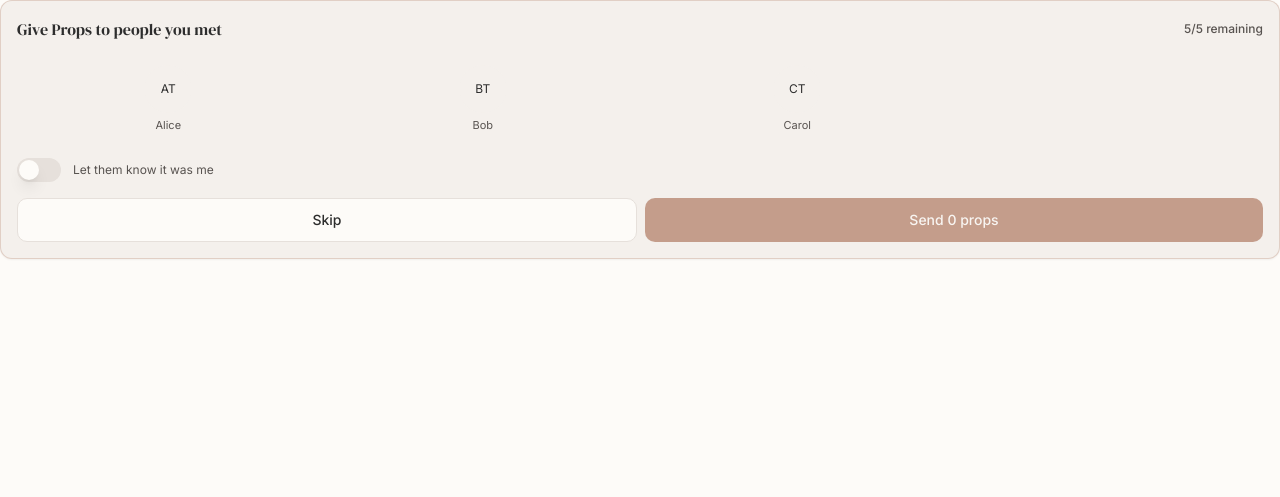
Test: GivePropsFlow › enforces max 5 props limit
Expected: the text "Alice" is shown, x1=155 y1=118 x2=181 y2=132
Step 1. Click the button "AT Alice" → (168, 99), box x1=17 y1=57 x2=320 y2=142
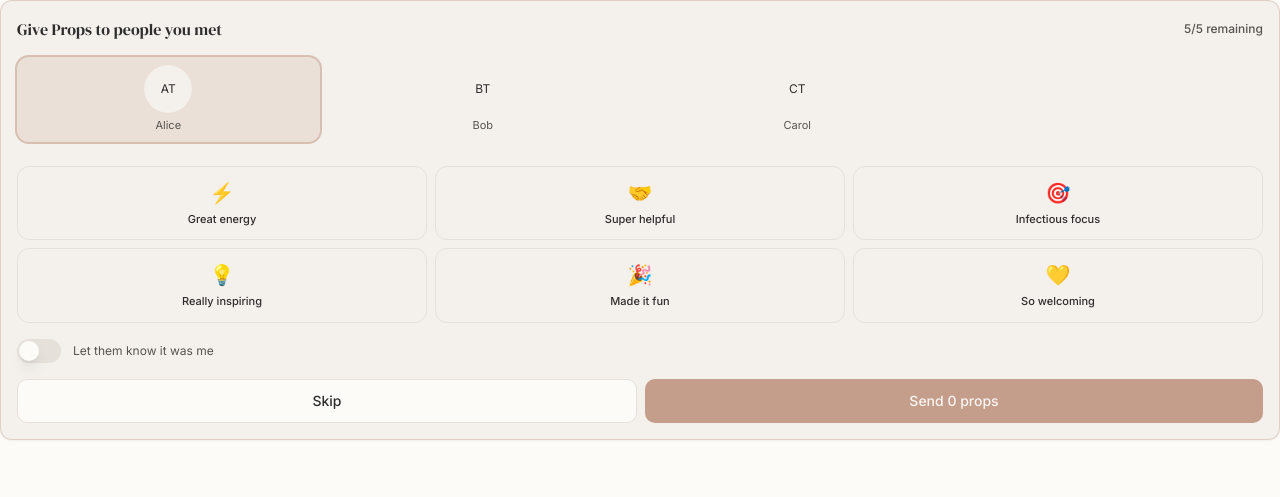
Expected: the text "Great energy" is shown, x1=188 y1=210 x2=256 y2=227
Step 2. Click the button "⚡ Great energy" → (222, 203), box x1=17 y1=166 x2=427 y2=240
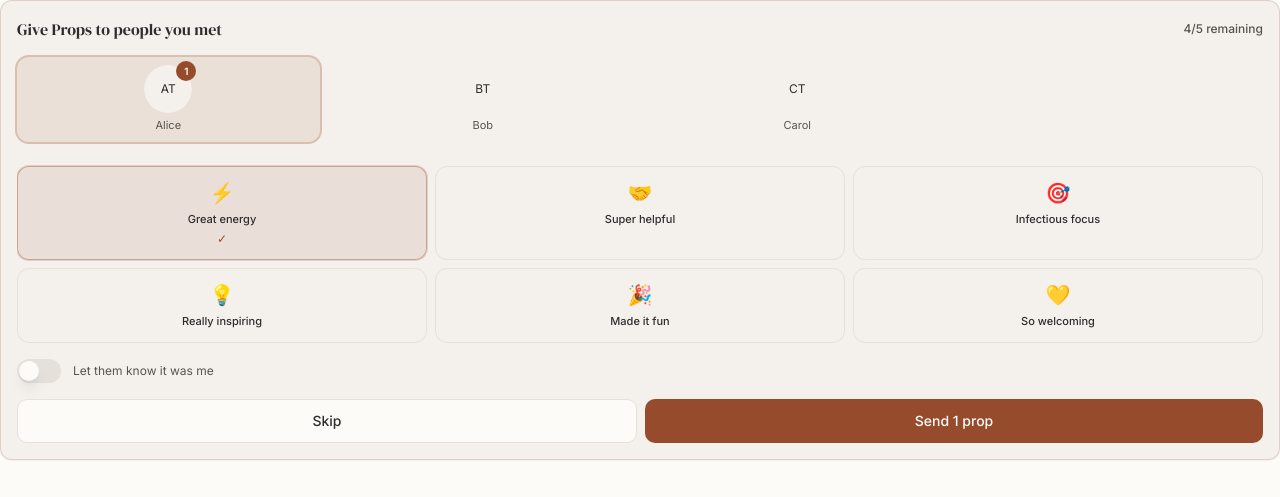
Step 3. Click the button "🤝 Super helpful" → (640, 213), box x1=435 y1=166 x2=845 y2=260
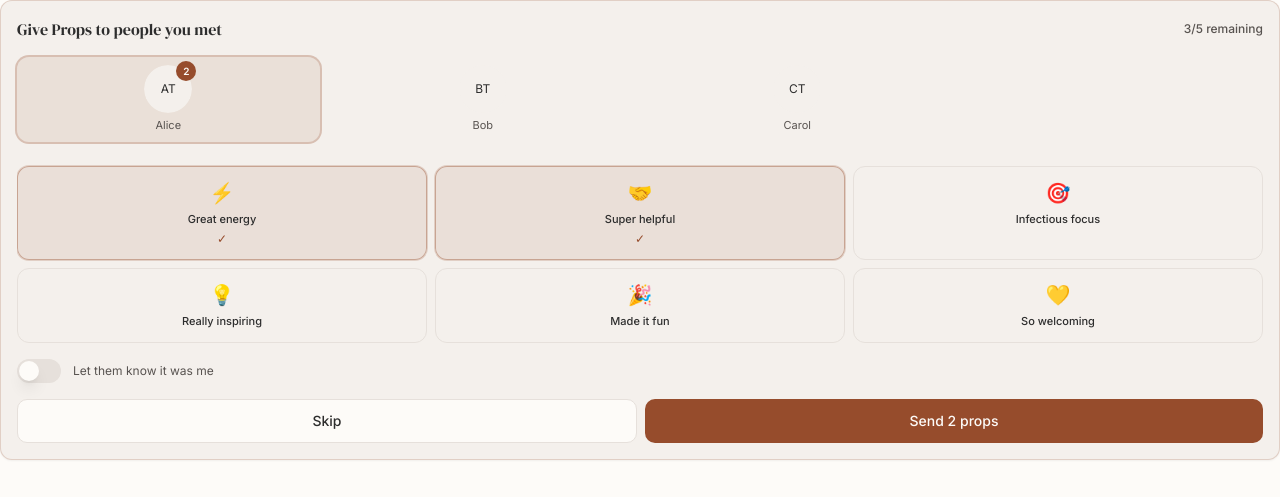
Step 4. Click the button "🎯 Infectious focus" → (1058, 213), box x1=853 y1=166 x2=1263 y2=260
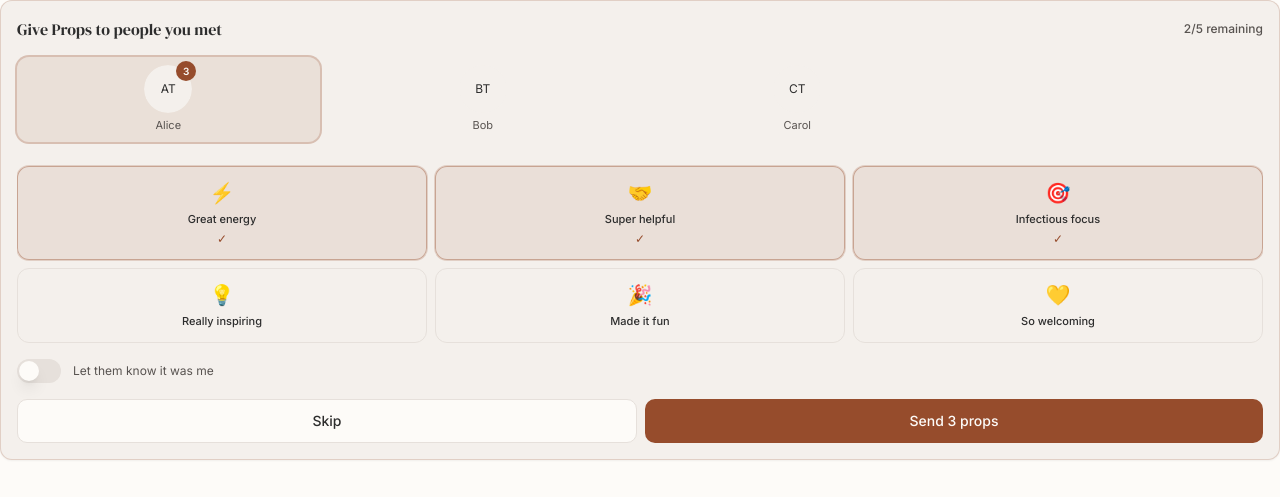
Step 5. Click the button "💡 Really inspiring" → (222, 305), box x1=17 y1=268 x2=427 y2=342
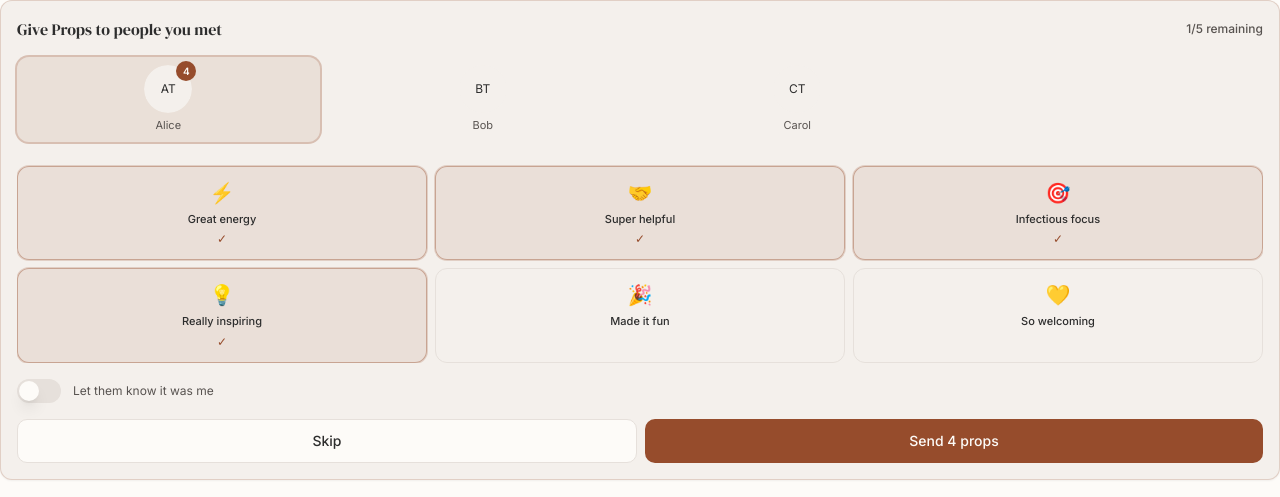
Step 6. Click the button "🎉 Made it fun" → (640, 315), box x1=435 y1=268 x2=845 y2=362
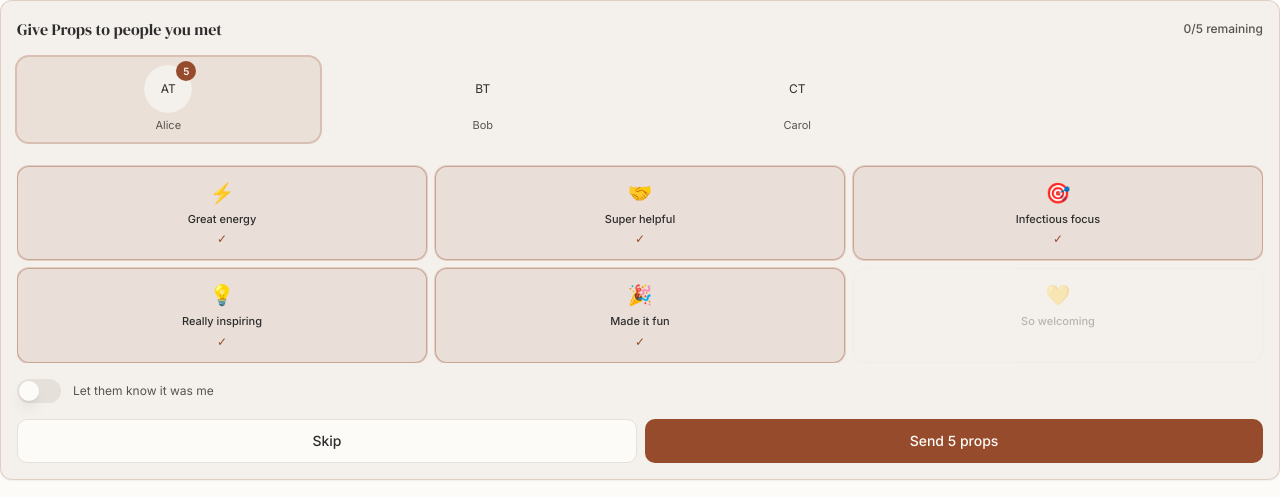
Expected: the button "💛 So welcoming" is disabled, x1=853 y1=268 x2=1263 y2=362
Expected: the text "0/5 remaining" is shown, x1=1184 y1=21 x2=1263 y2=37
